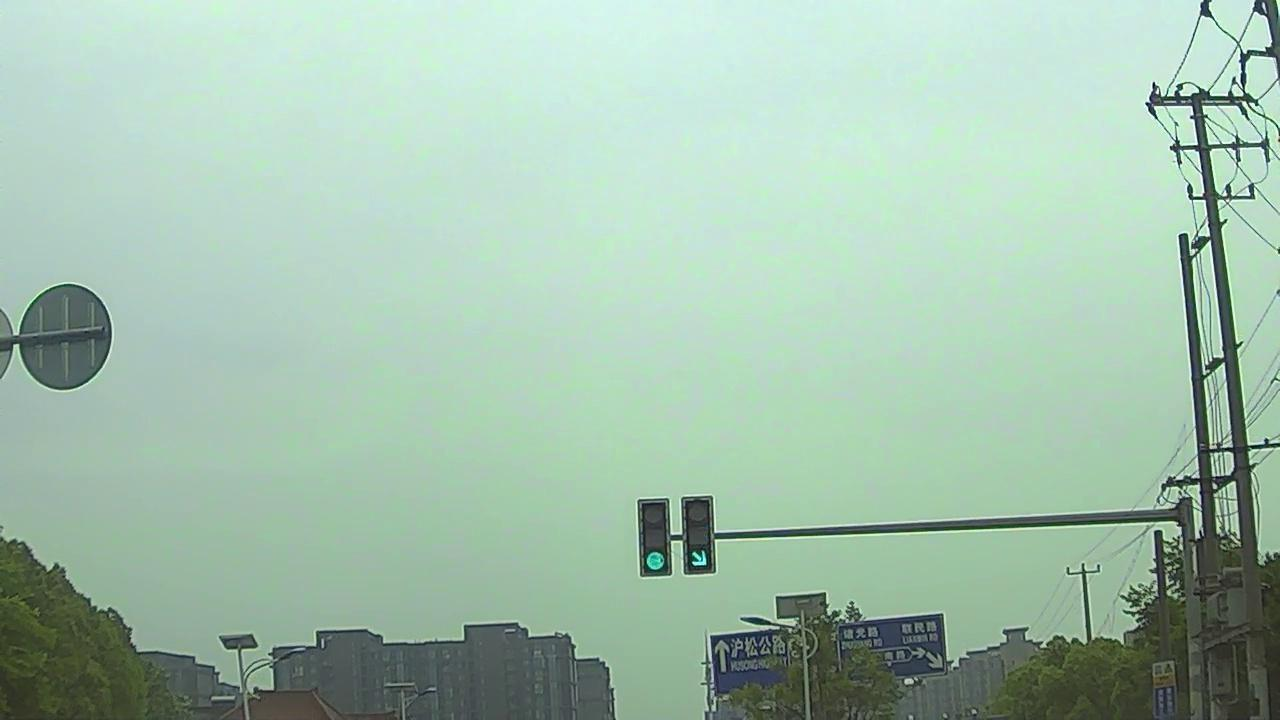traffic_light: (642, 500, 668, 573), (686, 499, 712, 572)
